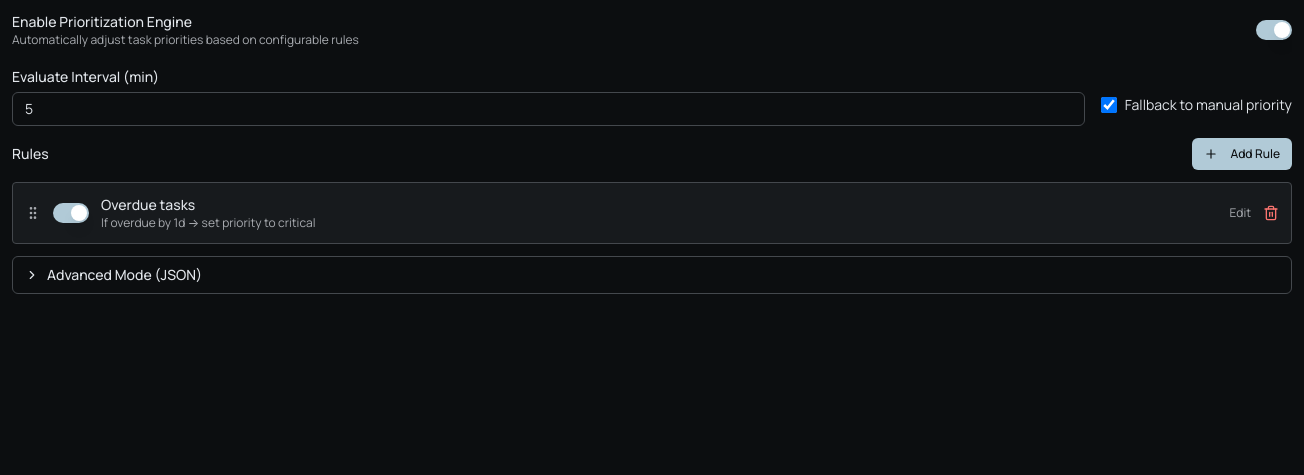
Test: PrioritizationTab › expands rule on Edit click and collapses on Done
This screenshot has width=1304, height=475.
Click the button "Edit" at (1240, 213), box top-left (1229, 205), bottom-right (1251, 221)
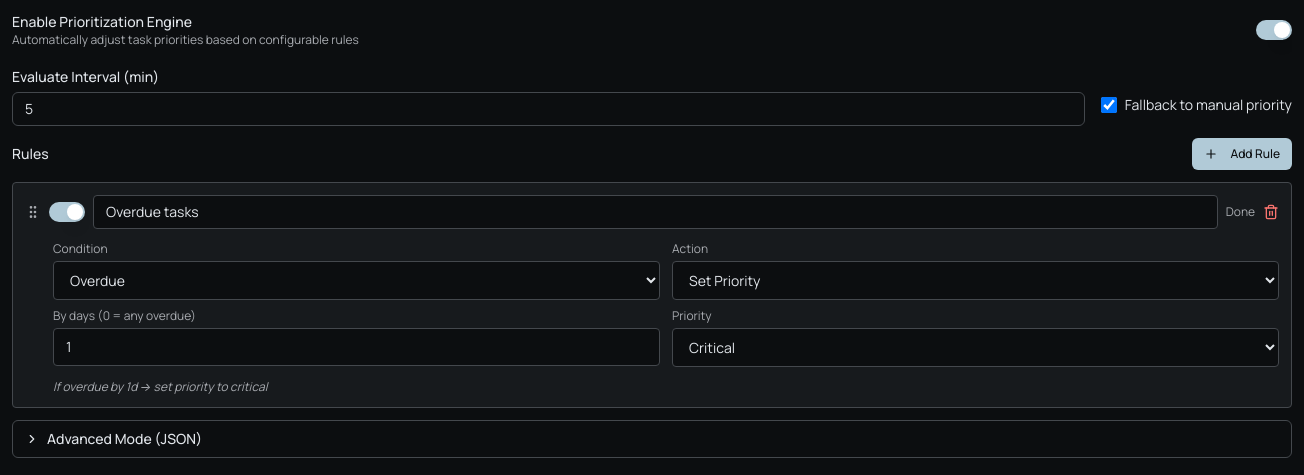
Now the button "Done" is shown
Now the text "Condition" is shown, box top-left (53, 240), bottom-right (108, 257)
Now the text "Action" is shown, box top-left (672, 240), bottom-right (708, 257)
Click the button "Done" at (1240, 212), box top-left (1226, 204), bottom-right (1255, 220)
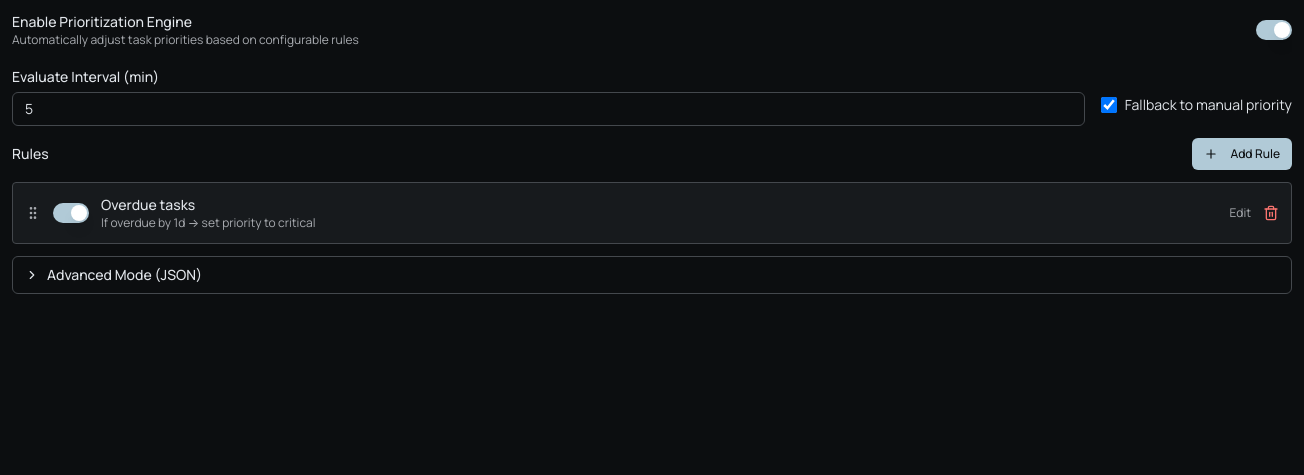
Now the text "Condition" is gone
Now the button "Edit" is shown, box top-left (1229, 205), bottom-right (1251, 221)
